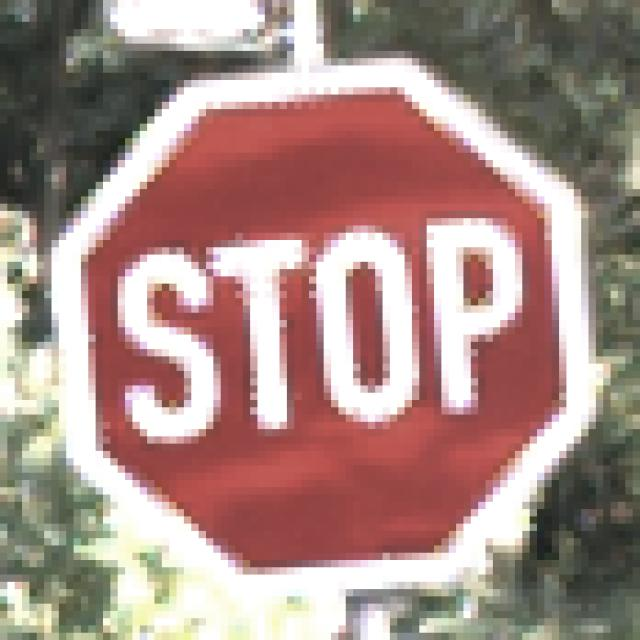STOP: (53, 52, 590, 590)
